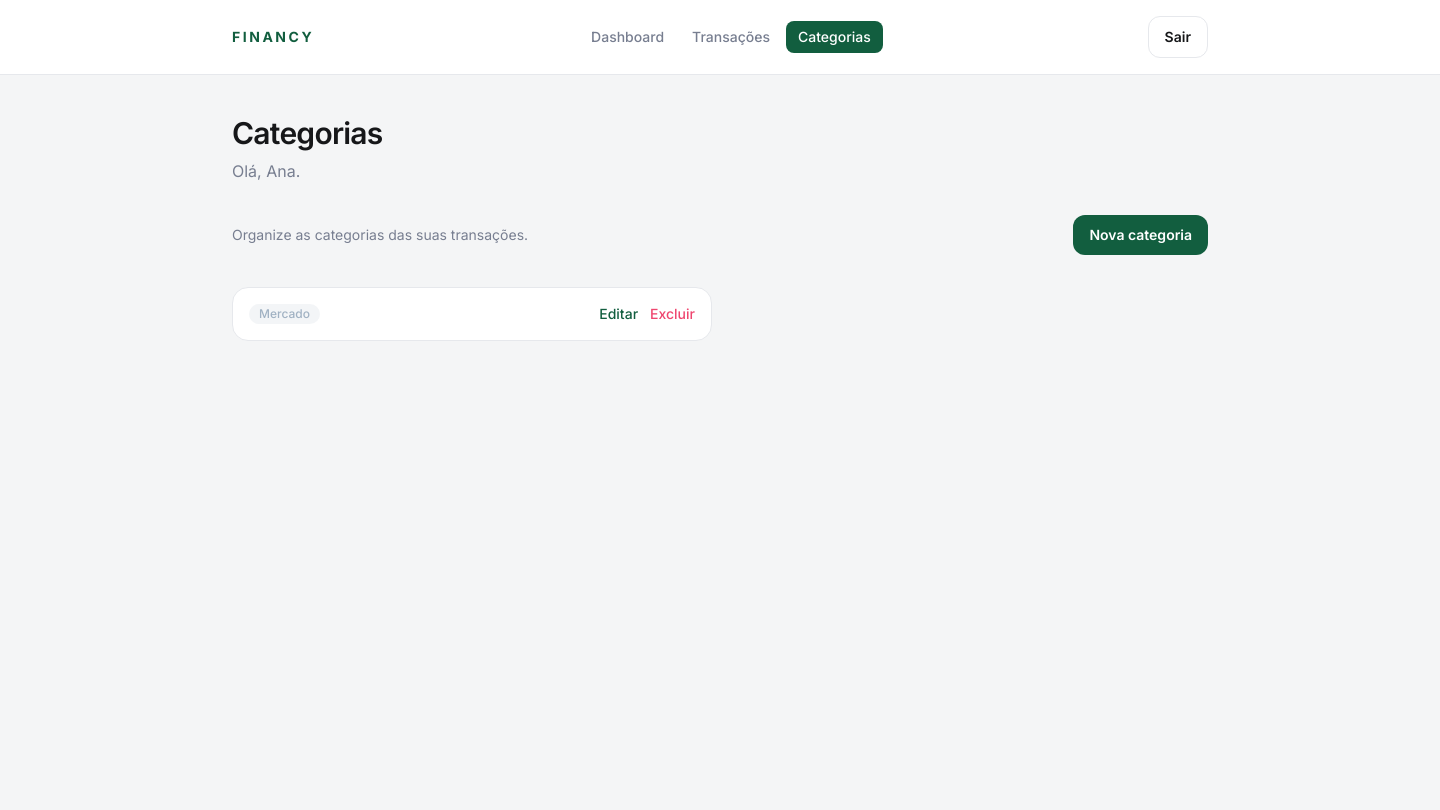
Test: categories page › AC-003: a used category explains how to proceed instead of disappearing
expect the text "Mercado" is shown: met, box [249,304,320,324]
What coordinates should you click on to do the following:
click the button "Excluir"
I would click on:
 (673, 314)
Its box is [650,304,695,324].
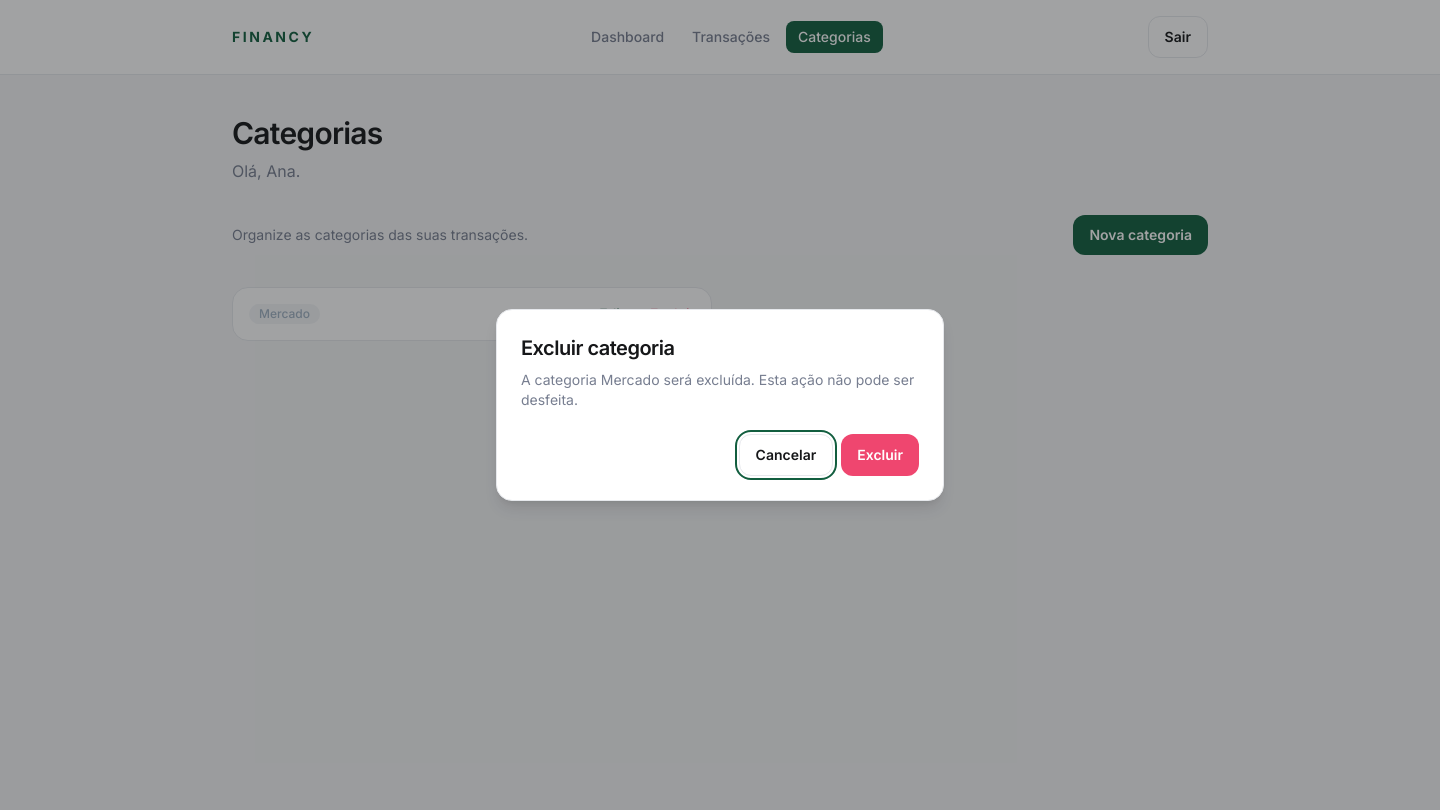
What coordinates should you click on to do the following:
click the button "Excluir"
I would click on:
 (880, 455)
Its box is [841,434,919,476].
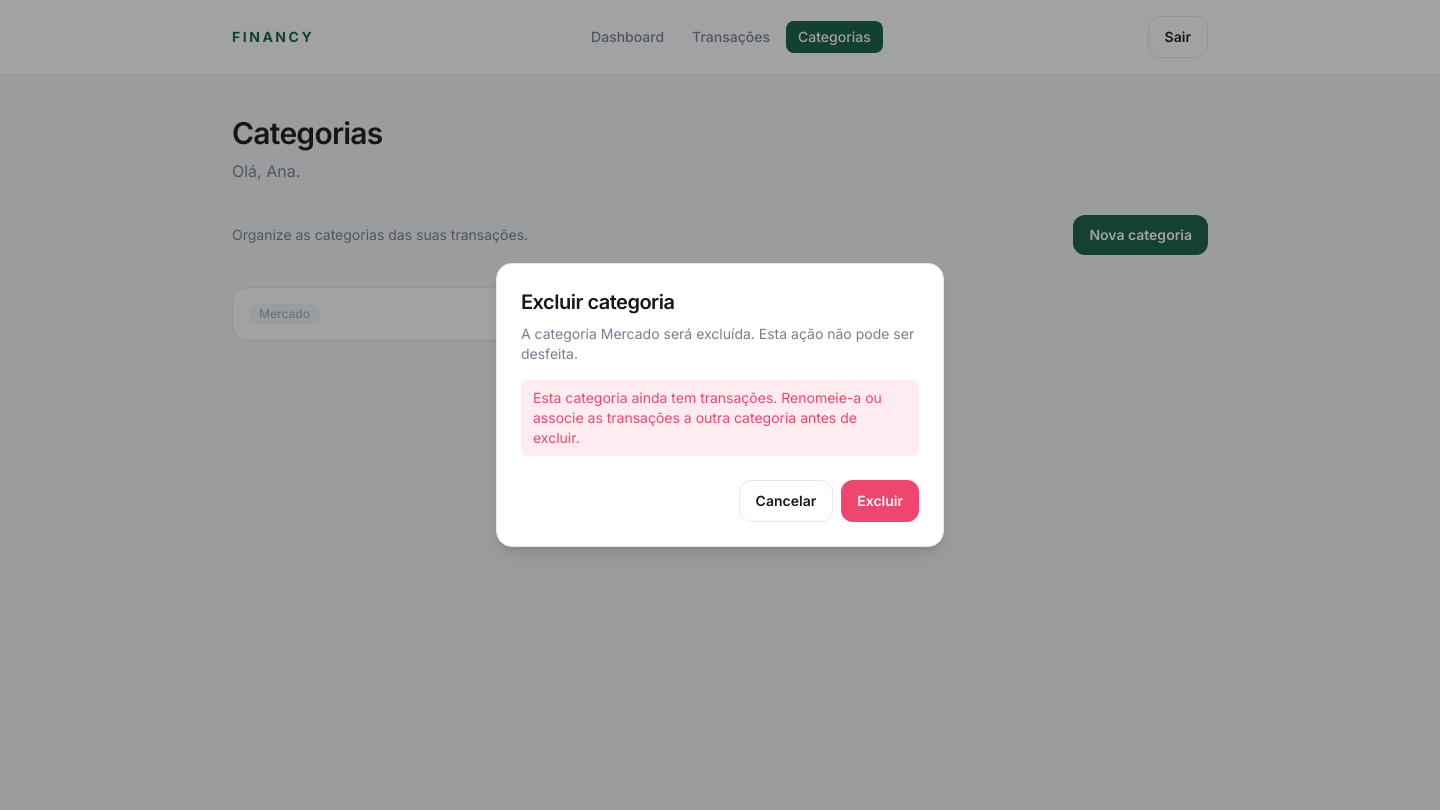
expect the text "Mercado" is shown: met, box [249,304,320,324]
expect the dialog "Excluir categoria" is shown: met, box [496,263,944,547]
expect the message shows "Esta categoria ainda tem transações. Renomeie-a ou associe as transações a outra categoria antes de excluir.": met, box [533,389,882,446]
